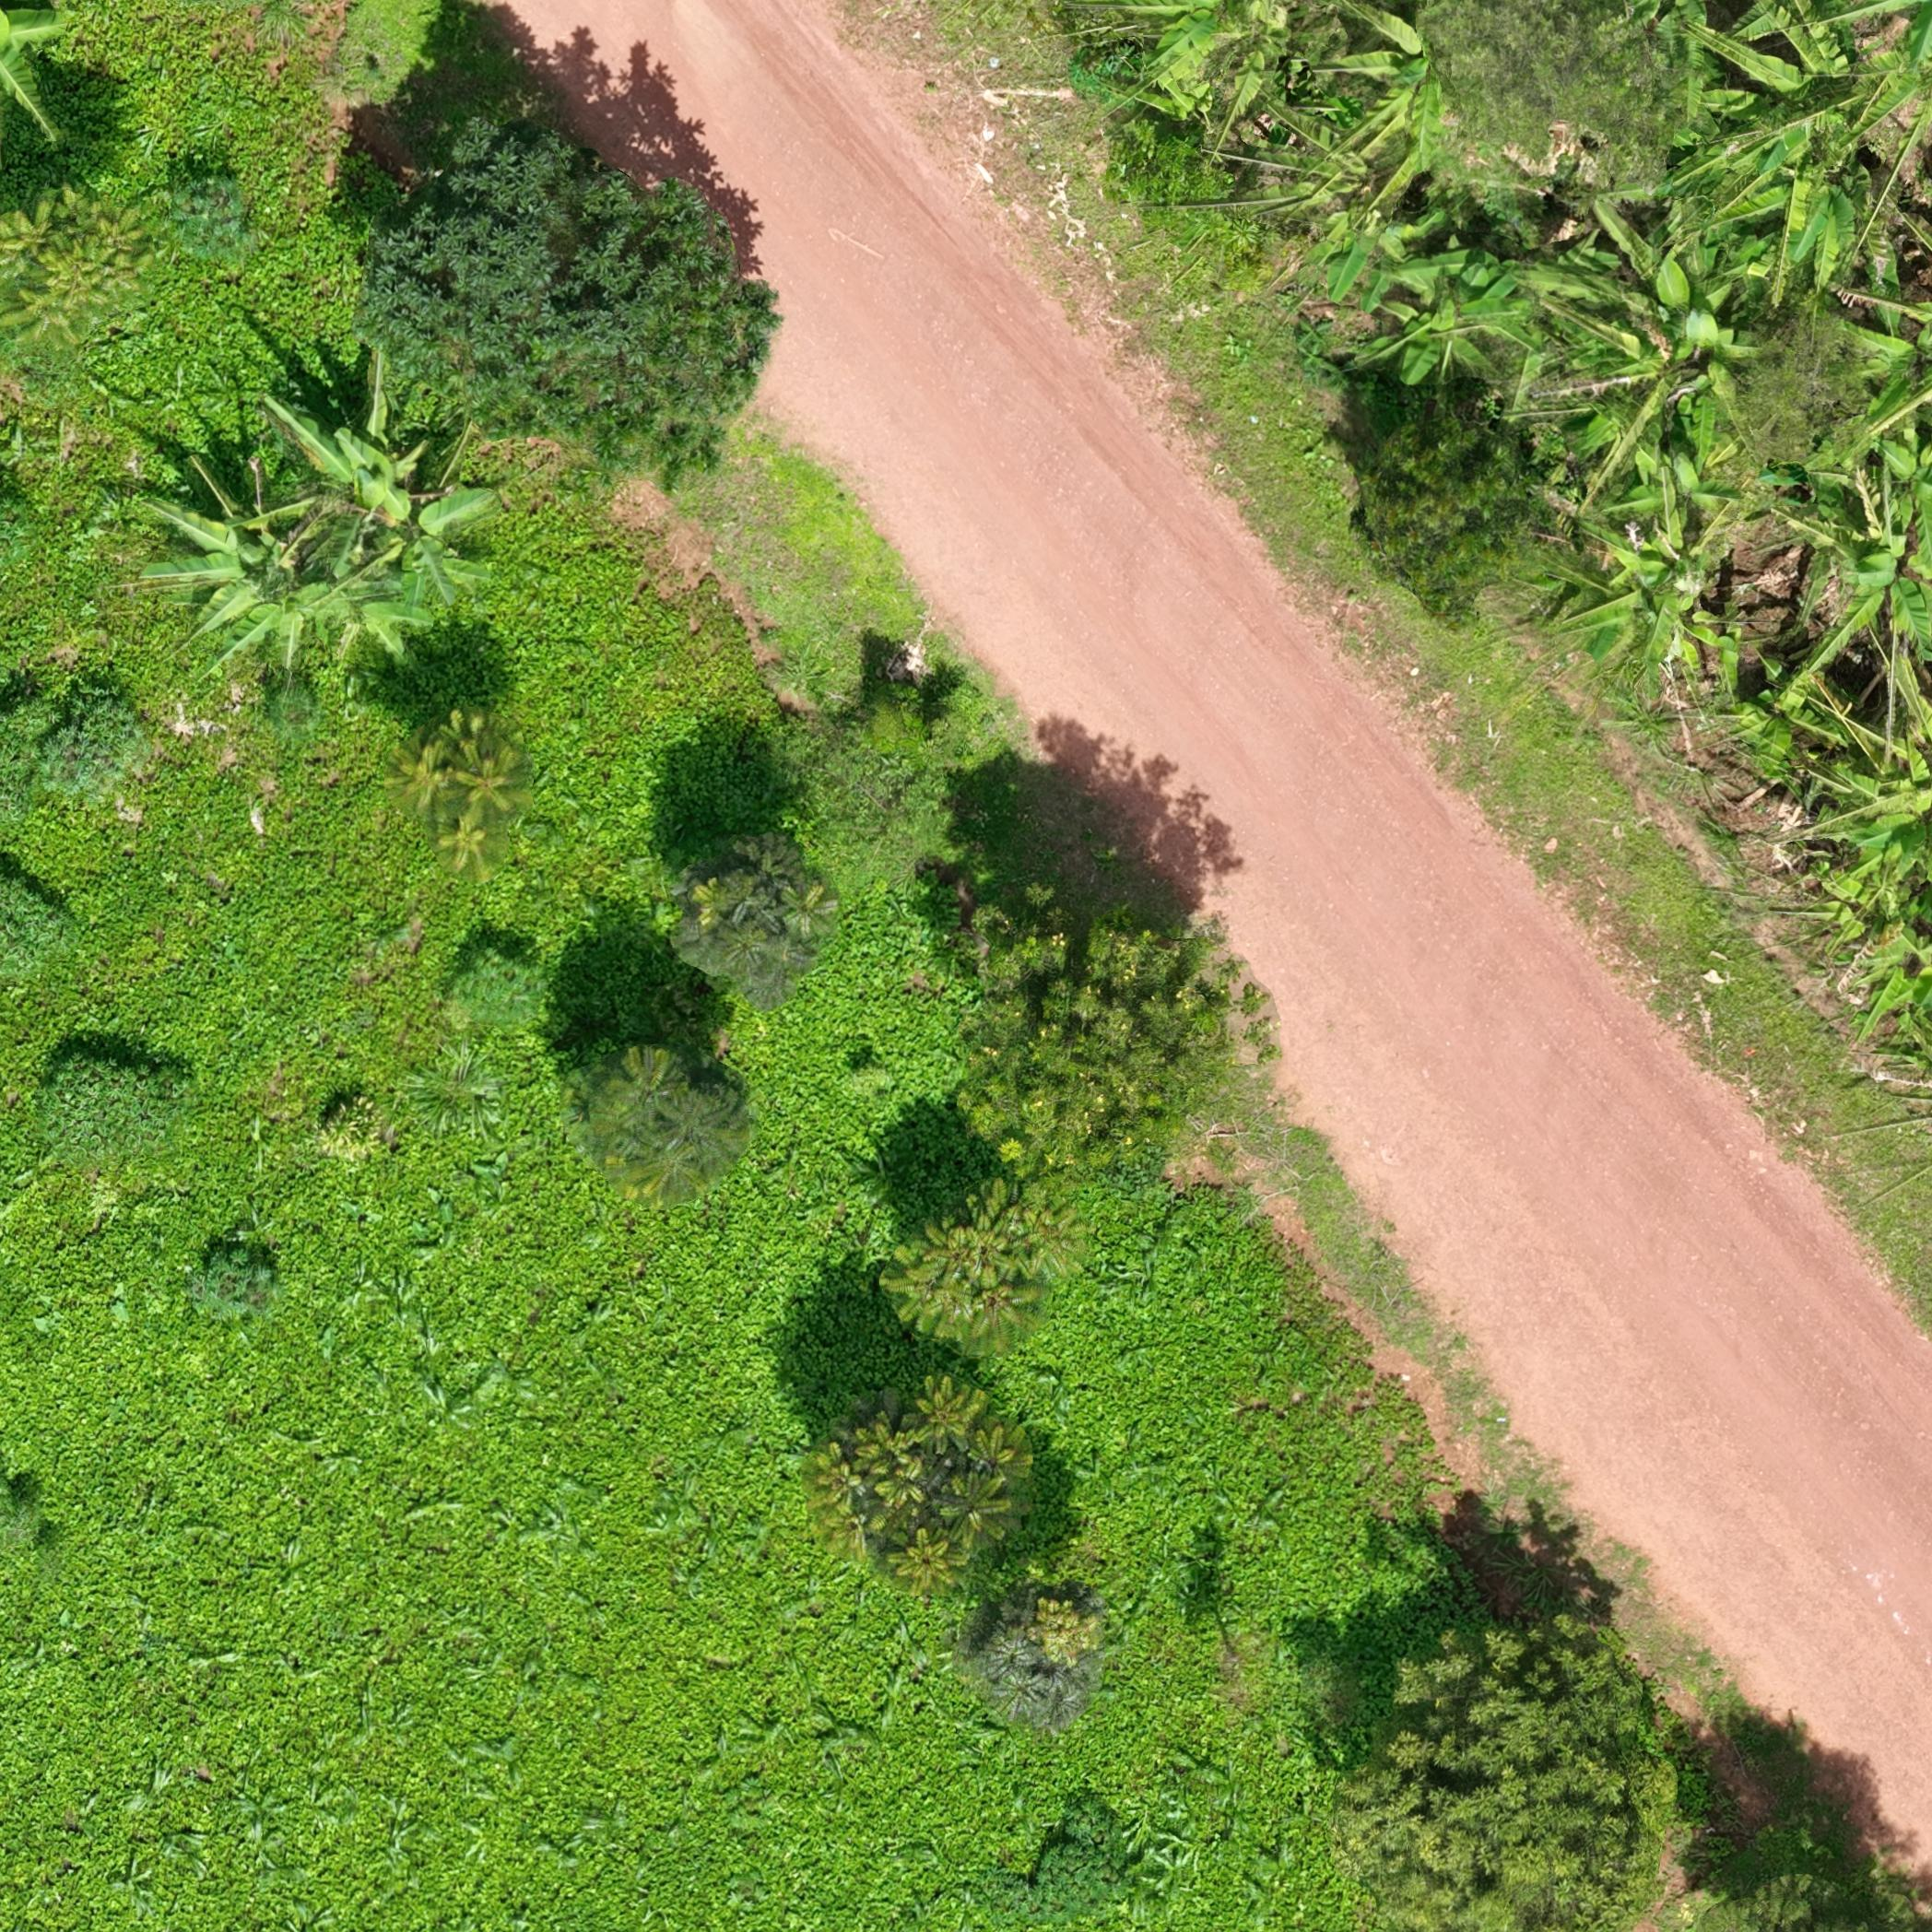Banana: (136, 453, 301, 667), (1729, 110, 1882, 271), (290, 352, 412, 545), (294, 517, 439, 672), (1775, 662, 1928, 805), (1585, 533, 1723, 674), (372, 490, 494, 630), (1787, 515, 1920, 635), (1334, 7, 1438, 156), (1394, 269, 1525, 384), (1274, 110, 1371, 244), (1562, 195, 1668, 311), (1629, 271, 1759, 363), (1338, 198, 1447, 306), (1146, 4, 1238, 129), (1835, 297, 1925, 419), (1656, 7, 1760, 106), (1769, 5, 1868, 97), (9, 12, 76, 147), (1829, 425, 1927, 517), (1847, 916, 1920, 1037), (1622, 455, 1727, 538), (1612, 370, 1713, 451), (1842, 816, 1921, 888)
